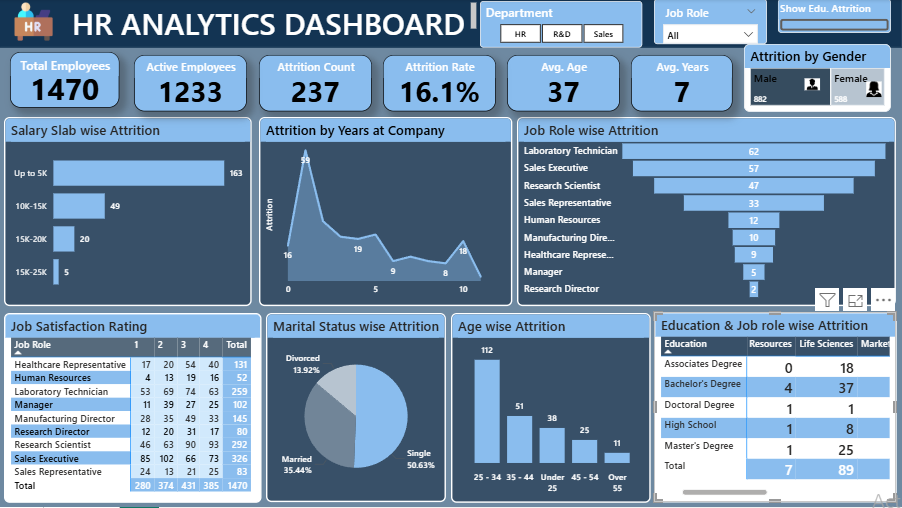

This screenshot's page, from the dashboard's own definition file:
{"tool":"powerbi","page":{"name":"Page 1","canvas":[1280,720],"ordinal":0},"visuals":[{"type":"shape","title":"         HR ANALYTICS DASHBOARD","box":[0,0,1280,68.9],"z":0},{"type":"pivotTable","title":"Job Satisfaction Rating","fields":{"Rows":["Data.Job Role"],"Columns":["Data.Job Satisfaction"],"Values":["Sum(Data.Employee Count)"]},"box":[7.2,445.5,365.3,268.6],"z":1000},{"type":"funnel","title":"Job Role wise Attrition","fields":{"Y":["Sum(Data.CF_attrition count)"],"Category":["Data.Job Role"]},"box":[734.1,167.8,537.2,267.6],"z":2000},{"type":"clusteredBarChart","title":"Salary Slab wise Attrition","fields":{"Category":["Data.salary slab"],"Y":["Sum(Data.CF_attrition count)"]},"box":[7.2,167.7,350.9,267.5],"z":3000},{"type":"card","title":"Total Employees","fields":{"Values":["Sum(Data.Employee Count)"]},"box":[15.6,75.7,155.1,79.4],"z":4000},{"type":"card","title":"Avg. Age","fields":{"Values":["Avg(Data.Age)"]},"box":[720,80,160,80],"z":5000},{"type":"card","title":"Attrition Rate","fields":{"Values":["Avg(Data.CF_attrition rate)"]},"box":[544,80,160,80],"z":6000},{"type":"card","title":"Attrition Count","fields":{"Values":["Sum(Data.CF_attrition count)"]},"box":[368,80,160,80],"z":7000},{"type":"card","title":"Active  Employees","fields":{"Values":["Sum(Data.CF_current Employee)"]},"box":[192,80,160,80],"z":8000},{"type":"textbox","box":[15.6,0,666.1,62.4],"z":9000},{"type":"treemap","title":"Attrition by Gender","fields":{"Group":["Data.Gender"],"Values":["CountNonNull(Data.Employee Count)"]},"box":[1056,64,208,96],"z":10000},{"type":"slicer","title":"Department","fields":{"Values":["Data.Department"]},"box":[681.2,3.1,230.5,65.9],"z":11000},{"type":"stackedAreaChart","title":"Attrition by Years at Company","fields":{"Category":["Data.Years At Company"],"Y":["Sum(Data.CF_attrition count)"]},"box":[368.4,167.7,359.1,267.5],"z":12000},{"type":"columnChart","title":"Age wise Attrition","fields":{"Category":["Data.CF_age band"],"Y":["Sum(Data.CF_attrition count)"]},"box":[640,444.5,283,268.6],"z":13000},{"type":"pieChart","title":"Marital Status wise Attrition","fields":{"Category":["Data.Marital Status"],"Y":["Sum(Data.CF_attrition count)"]},"box":[378.6,445.5,255.2,267.5],"z":14000},{"type":"image","box":[0,0,97.8,63.8],"z":15000},{"type":"image","box":[1136,96,32,48],"z":16000},{"type":"image","box":[1216,112,48,32],"z":17000},{"type":"pivotTable","title":"Education & Job role wise Attrition","fields":{"Rows":["Data.Education"],"Columns":["Data.Education Field"],"Values":["Sum(Data.CF_attrition count)"]},"box":[928.1,443.5,343.7,269.6],"z":18000},{"type":"card","title":"Avg. Years","fields":{"Values":["Avg(Data.Years At Company)"]},"box":[896,80,144,80],"z":19000},{"type":"slicer","fields":{"Values":["Data.Job Role"]},"box":[928,0,160,64],"z":20000},{"type":"actionButton","title":"Show Edu. Attrition","box":[1104,0,160,48],"z":22000}]}

Visuals, with their boxes in screenshot pixels (x1, y1, x2, y2), scaled from the page's 1280x720 canvas onto the 902x508 screenshot:
"         HR ANALYTICS DASHBOARD" shape: <bbox>0, 0, 901, 49</bbox>
"Job Satisfaction Rating" pivotTable: <bbox>5, 314, 262, 504</bbox>
"Job Role wise Attrition" funnel: <bbox>517, 118, 896, 307</bbox>
"Salary Slab wise Attrition" clusteredBarChart: <bbox>5, 118, 252, 307</bbox>
"Total Employees" card: <bbox>11, 53, 120, 109</bbox>
"Avg. Age" card: <bbox>507, 56, 620, 113</bbox>
"Attrition Rate" card: <bbox>383, 56, 496, 113</bbox>
"Attrition Count" card: <bbox>259, 56, 372, 113</bbox>
"Active  Employees" card: <bbox>135, 56, 248, 113</bbox>
textbox: <bbox>11, 0, 480, 44</bbox>
"Attrition by Gender" treemap: <bbox>744, 45, 891, 113</bbox>
"Department" slicer: <bbox>480, 2, 642, 49</bbox>
"Attrition by Years at Company" stackedAreaChart: <bbox>260, 118, 513, 307</bbox>
"Age wise Attrition" columnChart: <bbox>451, 314, 650, 503</bbox>
"Marital Status wise Attrition" pieChart: <bbox>267, 314, 447, 503</bbox>
image: <bbox>0, 0, 69, 45</bbox>
image: <bbox>801, 68, 823, 102</bbox>
image: <bbox>857, 79, 891, 102</bbox>
"Education & Job role wise Attrition" pivotTable: <bbox>654, 313, 896, 503</bbox>
"Avg. Years" card: <bbox>631, 56, 733, 113</bbox>
slicer - Data.Job Role: <bbox>654, 0, 767, 45</bbox>
"Show Edu. Attrition" actionButton: <bbox>778, 0, 891, 34</bbox>
